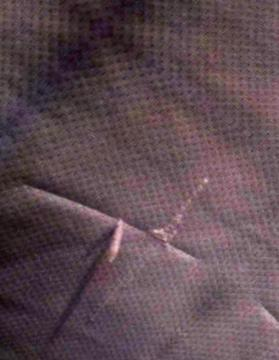snag: (90, 198, 139, 276)
